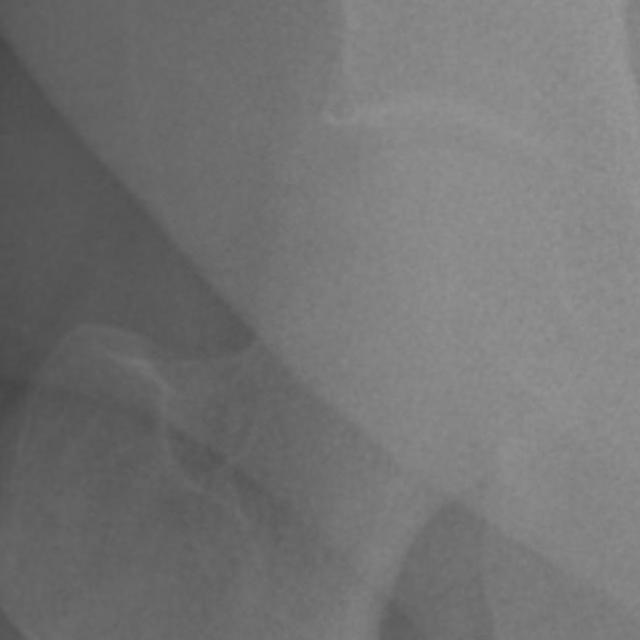Fitted_femural_head: (351, 142, 432, 351)
